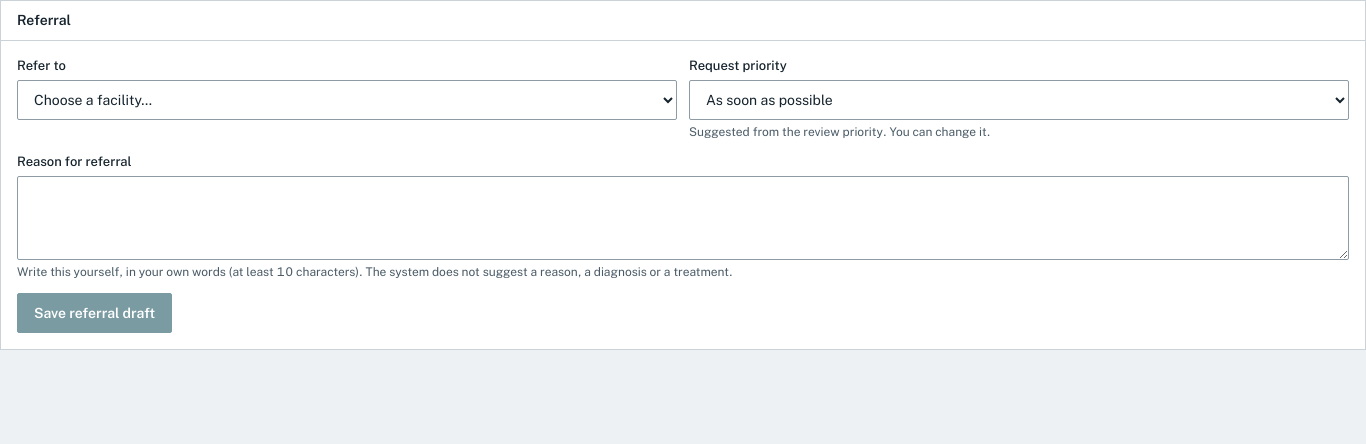
Test: ReferralPanel: before a referral exists › shows the server's plain message when saving fails
Expected: the button "Save referral draft" is shown, [17, 294, 172, 334]
Select "Seed District Hospital, Khordha" in the dropdown labelled "Refer to" at {"x": 347, "y": 100}, box [17, 80, 677, 120]
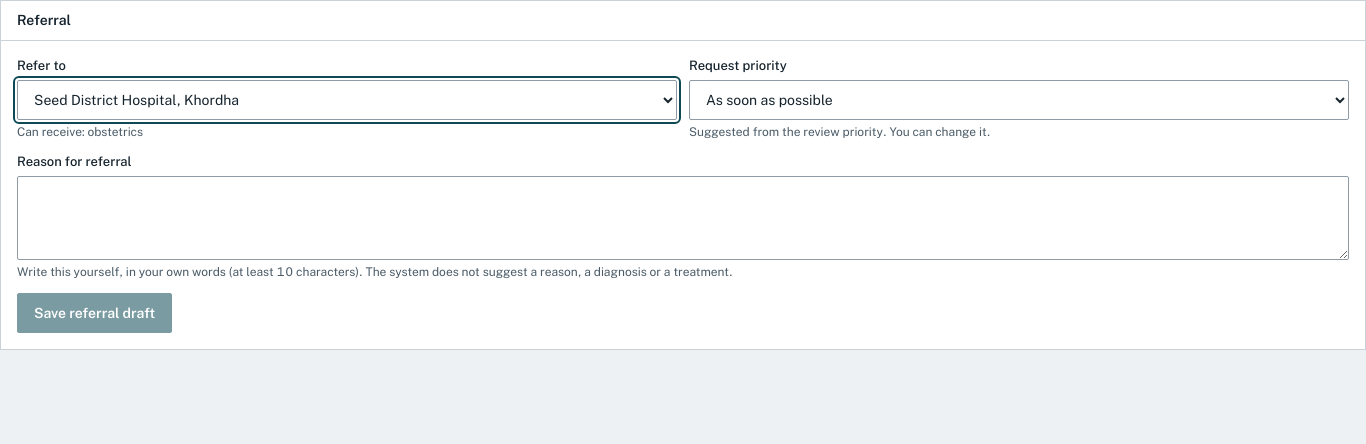
Type "Needs an obstetrician." into the text box labelled "Reason for referral" at {"x": 683, "y": 218}, box [17, 176, 1349, 260]
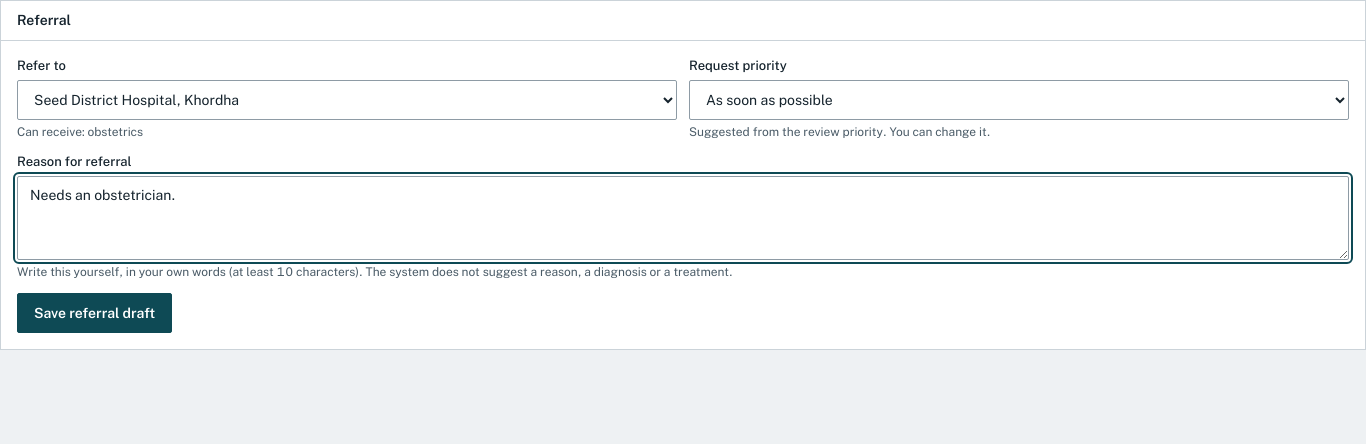
Click the button "Save referral draft" at {"x": 95, "y": 314}, box [17, 294, 172, 334]
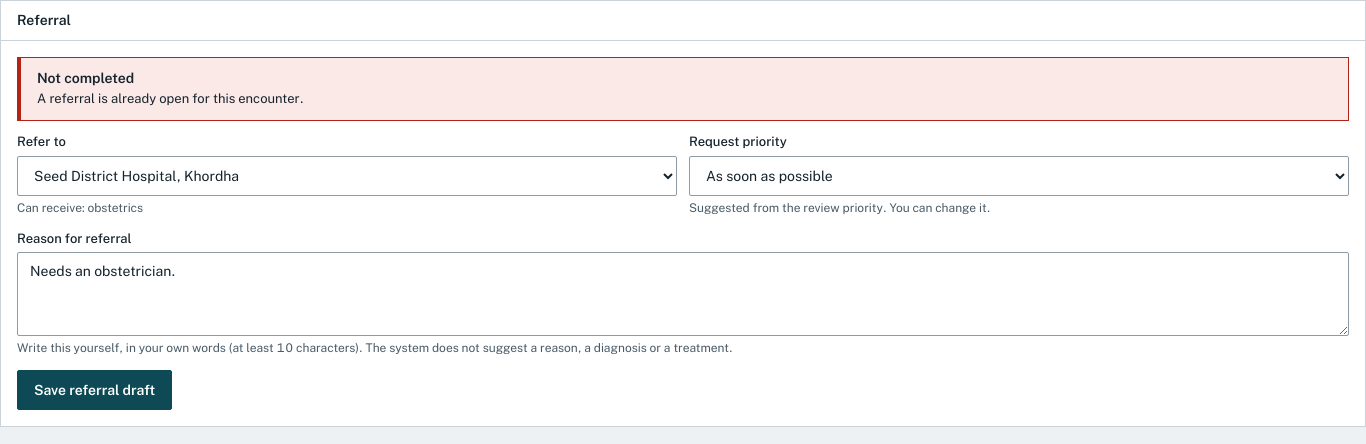
Expected: the message shows "A referral is already open for this encounter.", [37, 90, 304, 106]
